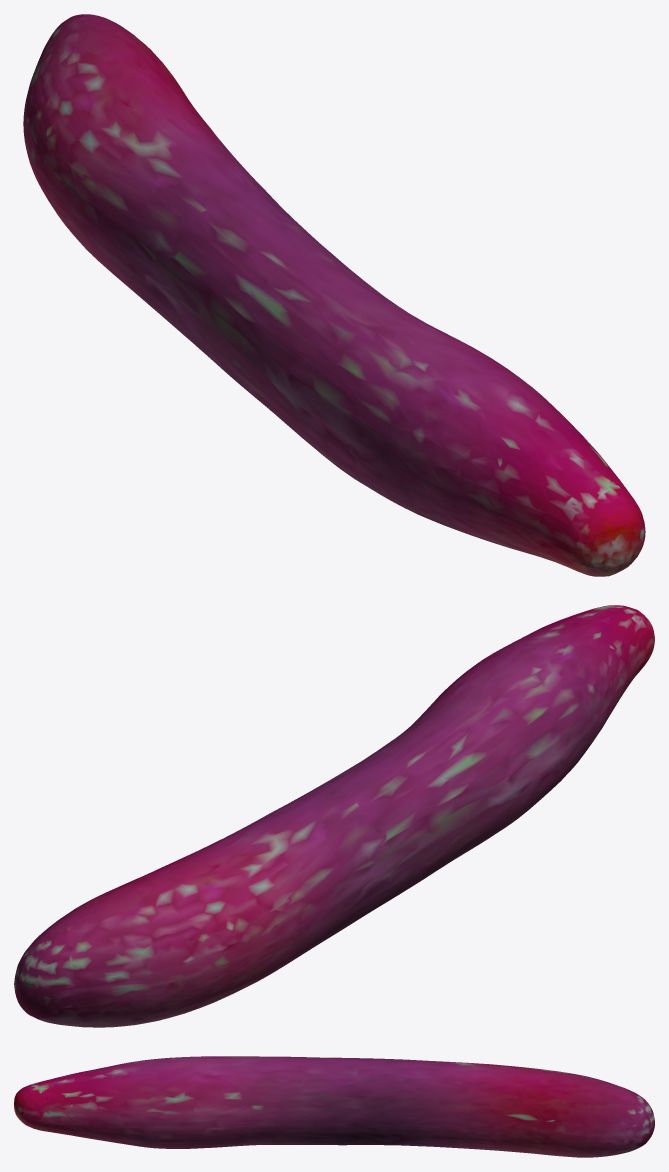
Rendered from 5_mesh_cousin_00.glb.
3 renders of one model, top to bottom at view 1: azimuth 30°, elevation 25°; view 2: azimuth 150°, elevation 25°; view 3: azimuth 270°, elevation 25°, orthographic. The views are drawn at different scales.
Visible parts, largest first — view 1: geometry_0; view 2: geometry_0; view 3: geometry_0.
Part boxes in pixels (<box>): geometry_0: <box>23,14,645,576</box>; geometry_0: <box>14,605,654,1027</box>; geometry_0: <box>14,1056,654,1157</box>.
Size of the model in its own units: 0.2104 by 0.1475 by 1.06.
